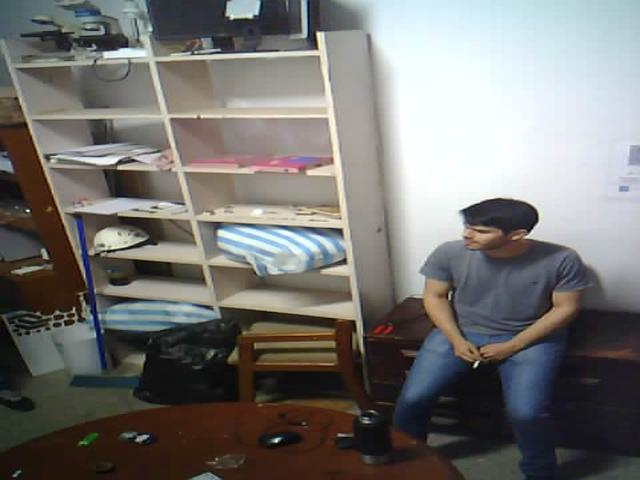person: (383, 173, 594, 480)
